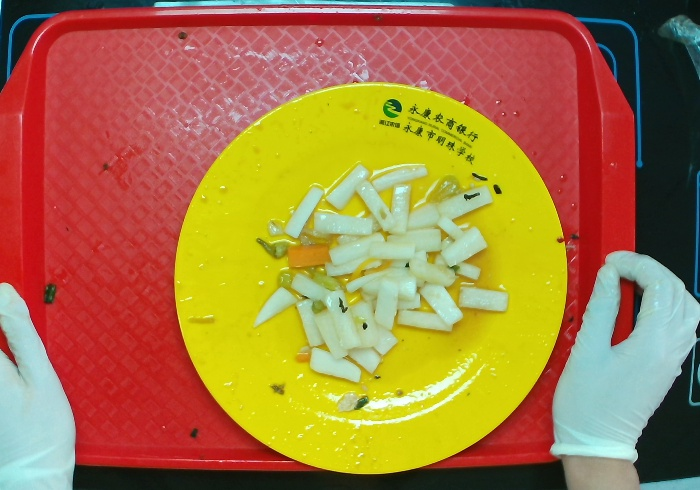YKMZ-Huang_Se_Mian_Pan: (172, 80, 569, 475)
